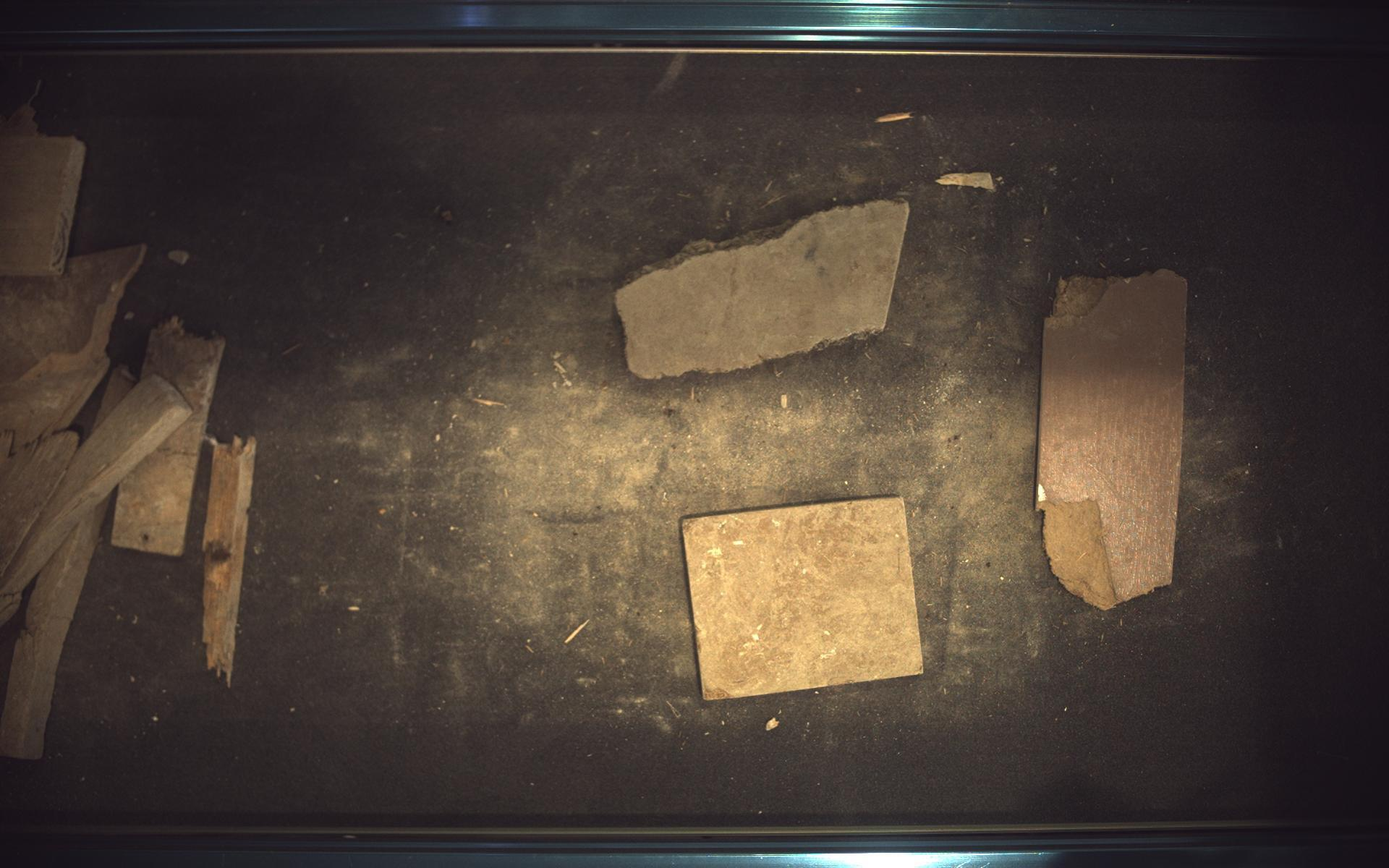wood: (616, 200, 909, 378), (1038, 269, 1190, 610), (683, 498, 925, 702)
